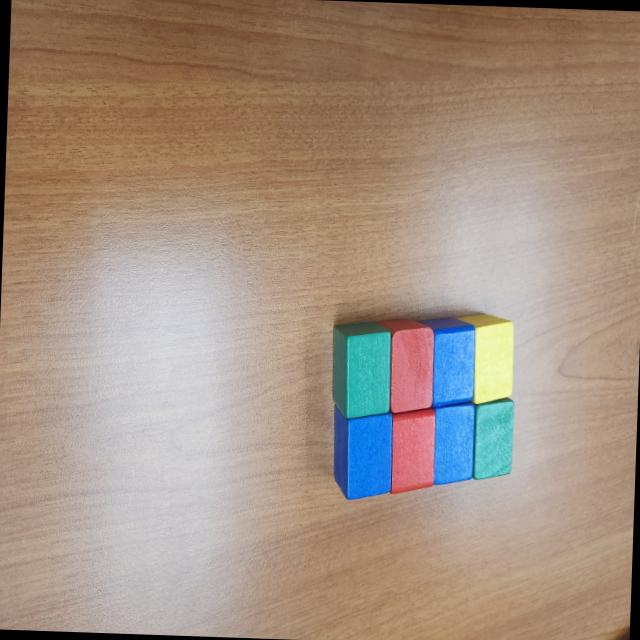blue: (330, 405, 394, 501), (412, 316, 476, 410), (432, 399, 476, 486)
green: (330, 318, 396, 419), (471, 393, 515, 481)
red: (373, 318, 434, 414), (388, 406, 436, 496)
yellow: (456, 312, 516, 404)
